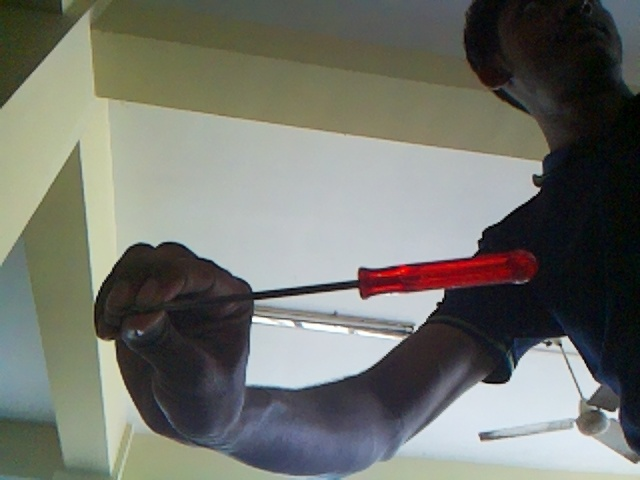redskrew: (249, 251, 537, 296)
